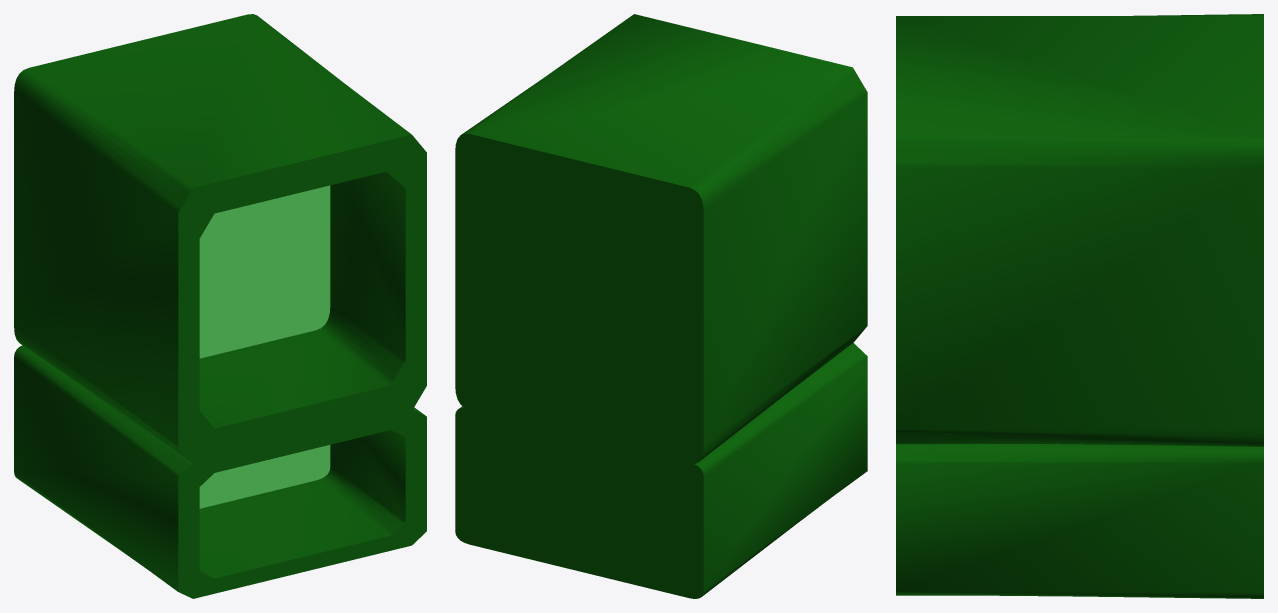
File: HUD.FBX
3 renders of one model, left to right at view 1: azimuth 30°, elevation 25°; view 2: azimuth 150°, elevation 25°; view 3: azimuth 270°, elevation 25°, orthographic. The views are drawn at different scales.
Parts seen in each view (by area): view 1: Box002; view 2: Box002; view 3: Box002.
Part boxes in pixels (box(x1,y1,x2,y2)): Box002: box(14, 14, 426, 598); Box002: box(455, 14, 867, 598); Box002: box(896, 14, 1263, 598).
Bounding box in the file's own units: 11.06 × 17.47 × 12.65.
